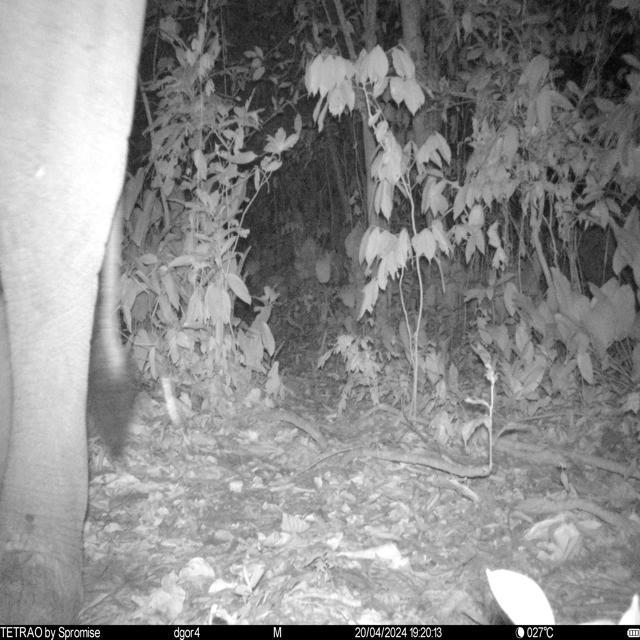elephant: (0, 1, 167, 624)
